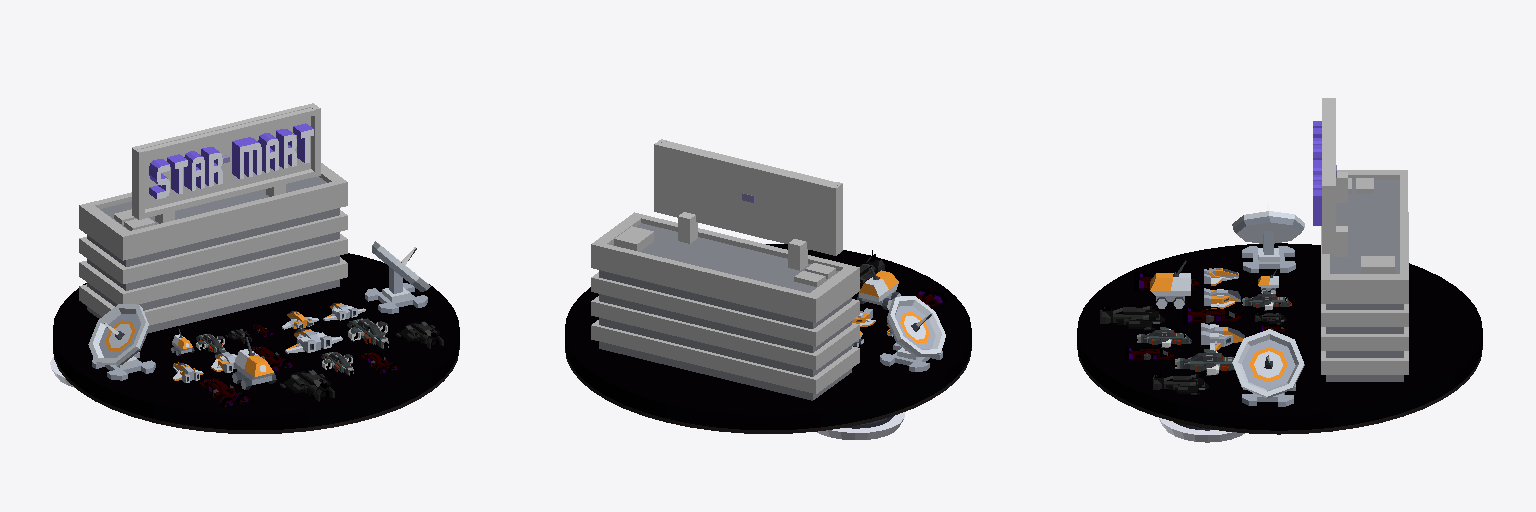
3 views of the same model, side by side, from view 1: azimuth 30°, elevation 25°; view 2: azimuth 150°, elevation 25°; view 3: azimuth 270°, elevation 25° (orthographic).
Parts seen in each view (by area): view 1: base, low_wideA, star_mart, Cube.002, satelliteDish, satelliteDish.001, Cube.005, Cube.006, rover.001, ship_2.001, ship_3.001, craft_speederC.001 (+5 smaller); view 2: low_wideA, base, Cube.002, satelliteDish, rover.001, Cube, Cube.001; view 3: base, low_wideA, satelliteDish.001, satelliteDish, rover.001, ship_2.001, Cube.002, ship_3.001, star_mart, ship_2.002, craft_speederC.001, ship_1.002 (+4 smaller).
Part boxes in pixels (x1,y1,x2,y2): base: (50, 253, 459, 433); low_wideA: (79, 163, 347, 332); star_mart: (149, 123, 313, 199); Cube.002: (132, 103, 316, 216); satelliteDish: (88, 304, 155, 380); satelliteDish.001: (365, 241, 430, 313); Cube.005: (143, 108, 314, 156); Cube.006: (145, 169, 314, 217); rover.001: (232, 337, 276, 389); ship_2.001: (279, 369, 334, 401); ship_3.001: (347, 318, 388, 348); craft_speederC.001: (285, 328, 342, 353); low_wideA: (591, 212, 859, 400); base: (565, 244, 971, 439); Cube.002: (654, 142, 839, 255); satelliteDish: (880, 296, 945, 371); rover.001: (857, 267, 900, 309); Cube: (788, 239, 807, 270); Cube.001: (678, 212, 697, 243); base: (1077, 243, 1482, 442); low_wideA: (1321, 170, 1408, 381); satelliteDish.001: (1232, 329, 1304, 406); satelliteDish: (1232, 203, 1304, 272); rover.001: (1150, 260, 1190, 308); ship_2.001: (1100, 302, 1164, 329); Cube.002: (1329, 98, 1335, 253); ship_3.001: (1175, 349, 1234, 375); star_mart: (1313, 121, 1336, 225); ship_2.002: (1153, 370, 1208, 394); craft_speederC.001: (1201, 323, 1244, 350); ship_1.002: (1183, 307, 1240, 323).
Bounding box in the file's own units: 3.88 × 2.34 × 3.86.
117 materials, 1 textured.